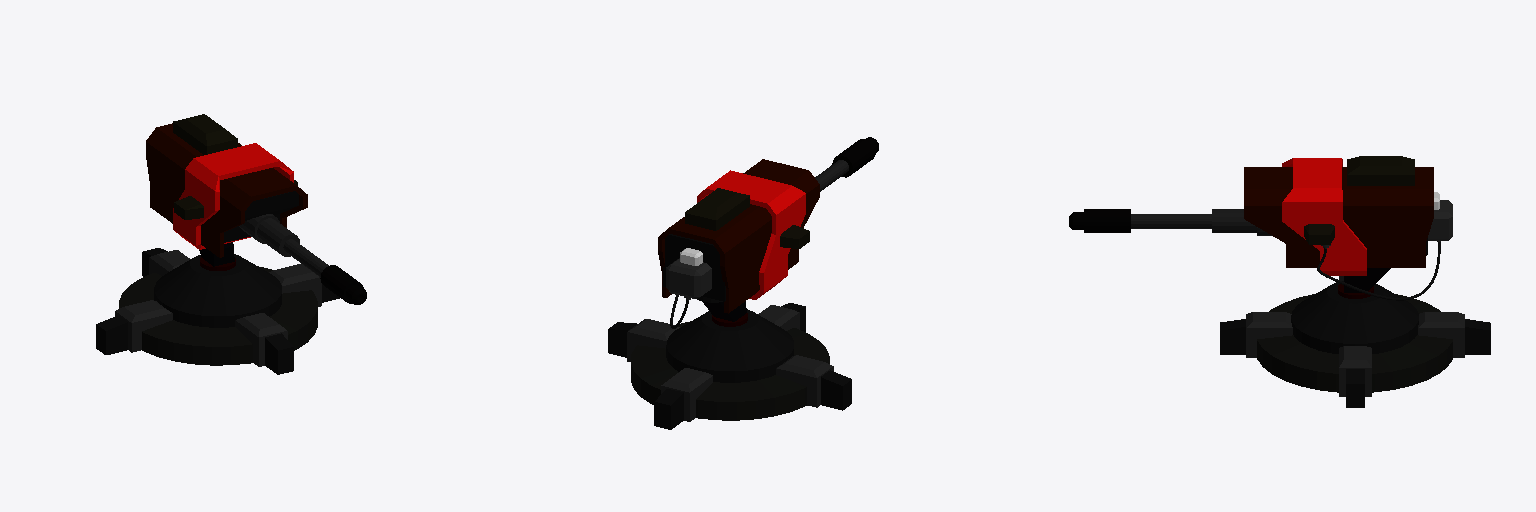
Rendered from Turret.obj.
The picture shows the model from 3 angles: view 1: azimuth 30°, elevation 25°; view 2: azimuth 150°, elevation 25°; view 3: azimuth 270°, elevation 25°; orthographic projection.
Parts seen in each view (by area): view 1: Куб.005_Куб.015, Цилиндр, Цилиндр.001_Цилиндр.007, Куб.009_Куб.016, Куб.011_Куб.018, Куб.010_Куб.017, Цилиндр.003, Куб.006_Куб.007, Куб.002_Куб.013, Куб.003_Куб.014, Куб_Куб.001, Цилиндр.004 (+1 smaller); view 2: Куб.005_Куб.015, Цилиндр, Цилиндр.001_Цилиндр.007, Куб.009_Куб.016, Куб.011_Куб.018, Куб.010_Куб.017, Куб.006_Куб.007, Куб.003_Куб.014, Куб_Куб.001, Куб.001_Куб.002, Куб.002_Куб.013, Цилиндр.004 (+1 smaller); view 3: Куб.005_Куб.015, Цилиндр, Цилиндр.001_Цилиндр.007, Куб.009_Куб.016, Куб.010_Куб.017, Цилиндр.003, Куб.006_Куб.007, Куб.002_Куб.013, Цилиндр.004, Куб.011_Куб.018, Куб.001_Куб.002, Куб.003_Куб.014 (+3 smaller).
Part boxes in pixels (x1,y1,x2,y2): Куб.005_Куб.015: (146,123,307,257); Цилиндр: (119,266,317,365); Цилиндр.001_Цилиндр.007: (154,254,281,327); Куб.009_Куб.016: (173,143,293,249); Куб.011_Куб.018: (115,264,321,352); Куб.010_Куб.017: (149,250,287,366); Цилиндр.003: (239,214,328,277); Куб.006_Куб.007: (173,114,237,154); Куб.002_Куб.013: (142,248,293,374); Куб.003_Куб.014: (96,284,339,354); Куб_Куб.001: (224,191,298,242); Цилиндр.004: (320,265,366,304); Куб.005_Куб.015: (658,159,819,313); Цилиндр: (631,321,829,420); Цилиндр.001_Цилиндр.007: (666,309,793,382); Куб.009_Куб.016: (697,170,805,299); Куб.011_Куб.018: (627,319,833,407); Куб.010_Куб.017: (661,305,799,421); Куб.006_Куб.007: (685,188,749,230); Куб.003_Куб.014: (608,322,851,410); Куб_Куб.001: (663,234,725,301); Куб.001_Куб.002: (666,258,711,298); Куб.002_Куб.013: (654,303,805,429); Цилиндр.004: (832,137,878,177); Куб.005_Куб.015: (1244,167,1433,267); Цилиндр: (1257,294,1452,392); Цилиндр.001_Цилиндр.007: (1291,281,1418,353); Куб.009_Куб.016: (1282,158,1366,275); Куб.010_Куб.017: (1246,312,1464,357); Цилиндр.003: (1131,209,1271,235); Куб.006_Куб.007: (1347,156,1414,185); Куб.002_Куб.013: (1220,319,1490,354); Цилиндр.004: (1069,209,1130,232); Куб.011_Куб.018: (1339,276,1371,396); Куб.001_Куб.002: (1428,200,1452,240); Куб.003_Куб.014: (1346,369,1364,407).
Size of the model in its own units: 1.12 by 0.8702 by 1.75.